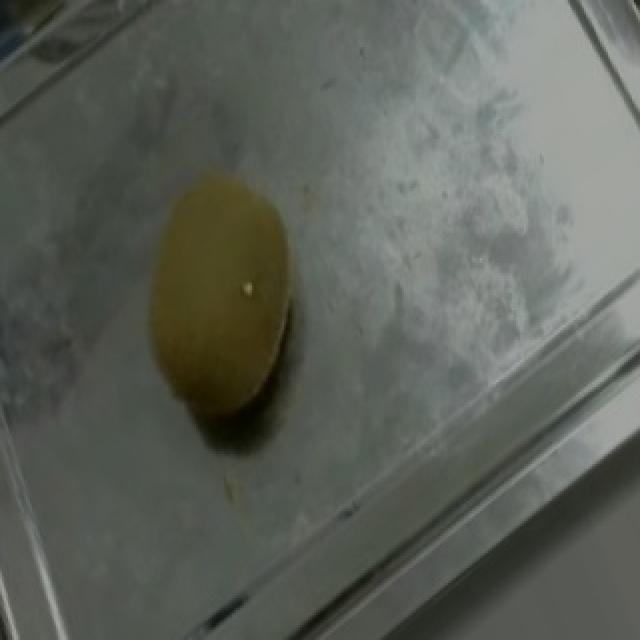Fruit: (104, 139, 338, 451)
